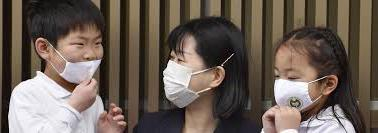mask_weared_incorrect: (54, 34, 103, 77)
with_mask: (160, 51, 199, 107), (268, 64, 310, 109)
